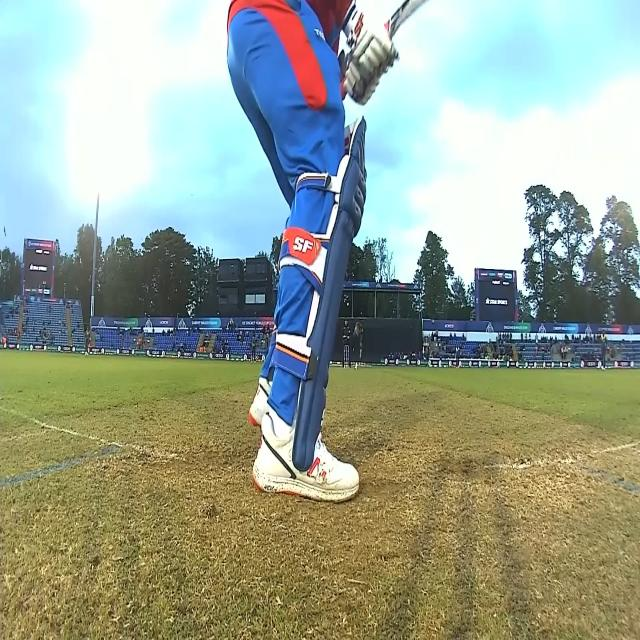ball: (345, 299, 351, 310)
